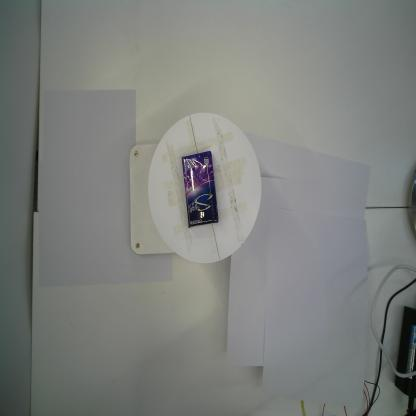Gum: (179, 148, 219, 230)
